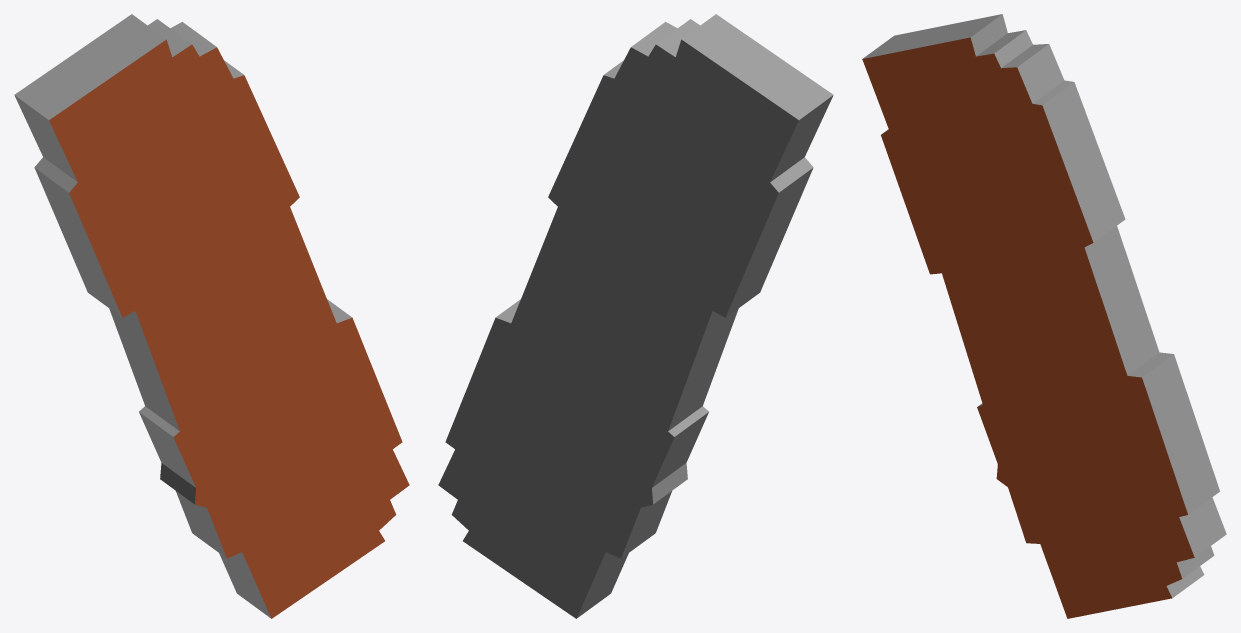
Rendered from construction_1742_assumed_A_Casa_h6m.obj.
3 views of the same model, side by side, from view 1: azimuth 30°, elevation 25°; view 2: azimuth 150°, elevation 25°; view 3: azimuth 330°, elevation 25° (orthographic). The views are drawn at different scales.
Parts seen in each view (by area): view 1: construction_1742_assumed_A_Casa; view 2: construction_1742_assumed_A_Casa; view 3: construction_1742_assumed_A_Casa.
Boxes of the visible parts, x1,y1,x2,y2 form: construction_1742_assumed_A_Casa: (14,14,409,618); construction_1742_assumed_A_Casa: (438,14,833,618); construction_1742_assumed_A_Casa: (862,14,1226,618).
Size of the model in its own units: 36 by 57.71 by 6.
